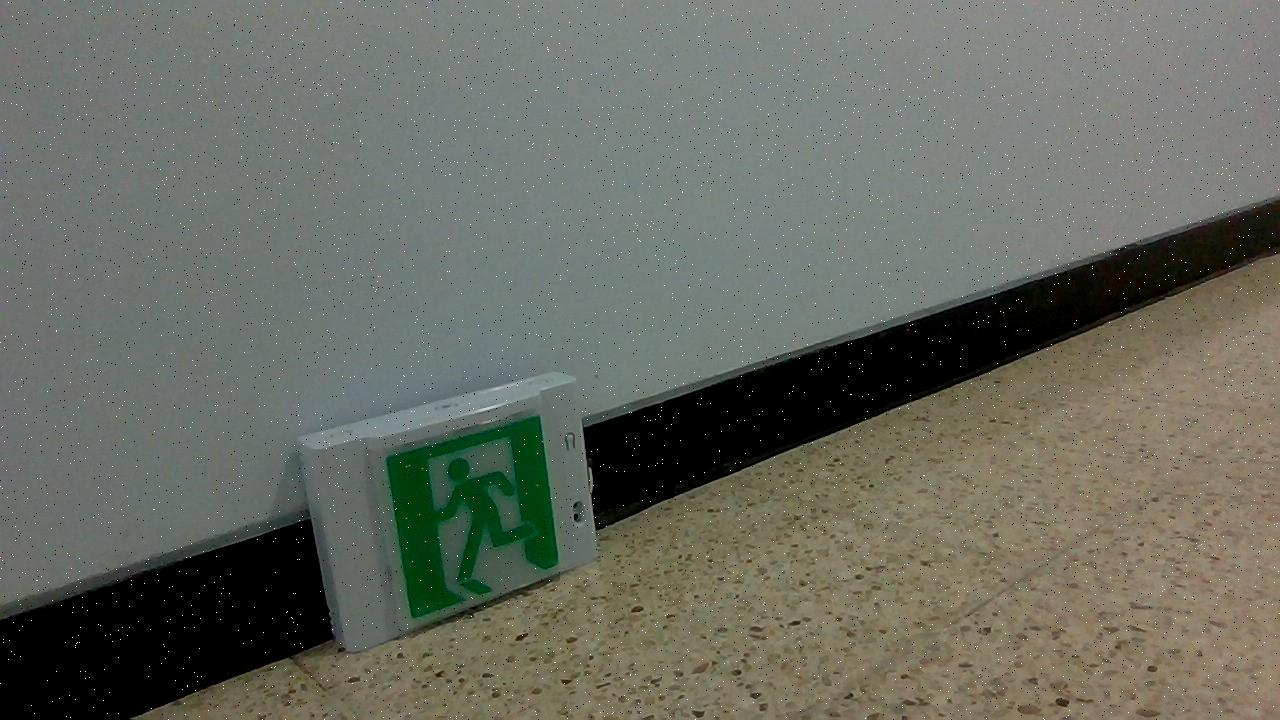emergency_exit: (293, 370, 600, 653)
